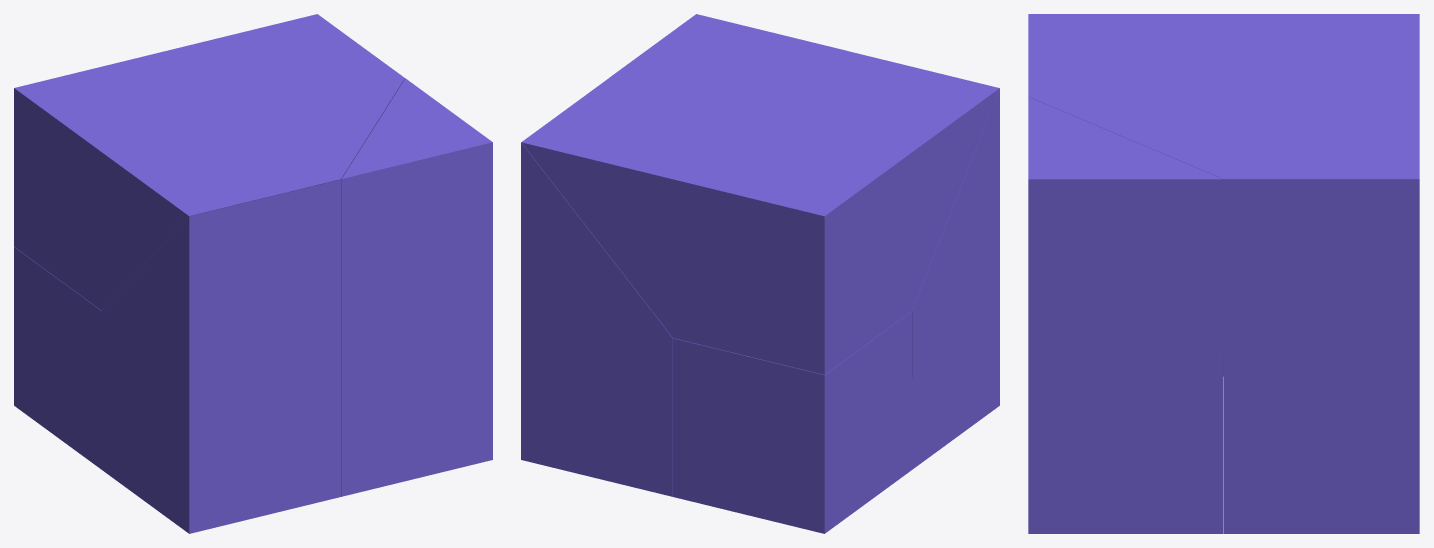
3 renders of one model, left to right at view 1: azimuth 30°, elevation 25°; view 2: azimuth 150°, elevation 25°; view 3: azimuth 270°, elevation 25°, orthographic. The views are drawn at different scales.
Visible parts, largest first — view 1: Cube_cell, Cube_cell.004, Cube_cell.002, Cube_cell.001; view 2: Cube_cell.004, Cube_cell.001, Cube_cell.003, Cube_cell, Cube_cell.002; view 3: Cube_cell.002, Cube_cell.003, Cube_cell.004.
Part boxes in pixels (box(x1,y1,x2,y2)): Cube_cell: box(101, 179, 340, 533); Cube_cell.004: box(14, 14, 404, 310); Cube_cell.002: box(341, 78, 492, 496); Cube_cell.001: box(14, 247, 101, 469); Cube_cell.004: box(521, 51, 999, 374); Cube_cell.001: box(673, 311, 912, 533); Cube_cell.003: box(521, 79, 672, 496); Cube_cell: box(912, 88, 999, 469); Cube_cell.002: box(609, 14, 847, 77); Cube_cell.002: box(1028, 97, 1223, 533); Cube_cell.003: box(1224, 179, 1419, 533); Cube_cell.004: box(1028, 14, 1419, 273).
Size of the model in its own units: 2 by 2 by 2.
